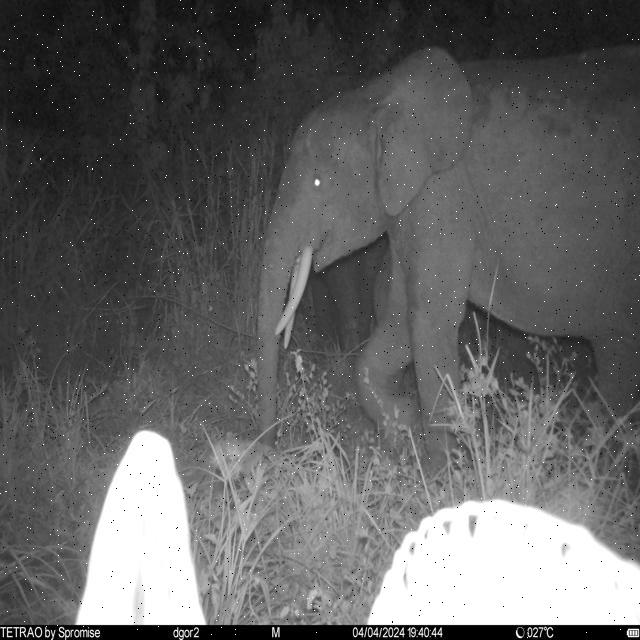ear: (372, 46, 478, 220)
elephant: (246, 45, 640, 471)
tusk: (270, 246, 315, 338), (282, 254, 302, 352)
